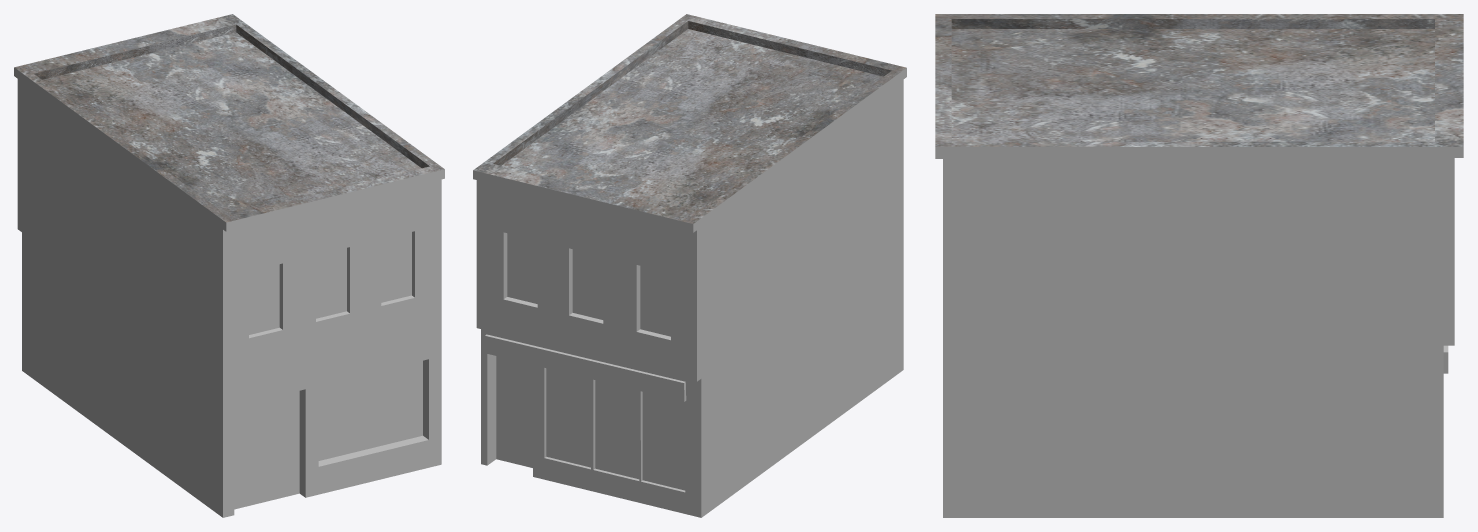
The picture shows the model from 3 angles, left to right: view 1: azimuth 30°, elevation 25°; view 2: azimuth 150°, elevation 25°; view 3: azimuth 270°, elevation 25°; orthographic projection. The views are drawn at different scales.
Visible parts, largest first — view 1: B31; view 2: B31; view 3: B31.
Part boxes in pixels (bbox=[...]): B31: bbox=[14, 14, 444, 517]; B31: bbox=[473, 14, 906, 517]; B31: bbox=[935, 14, 1463, 517].
Bounding box in the file's own units: 781 × 1016 × 1312.
